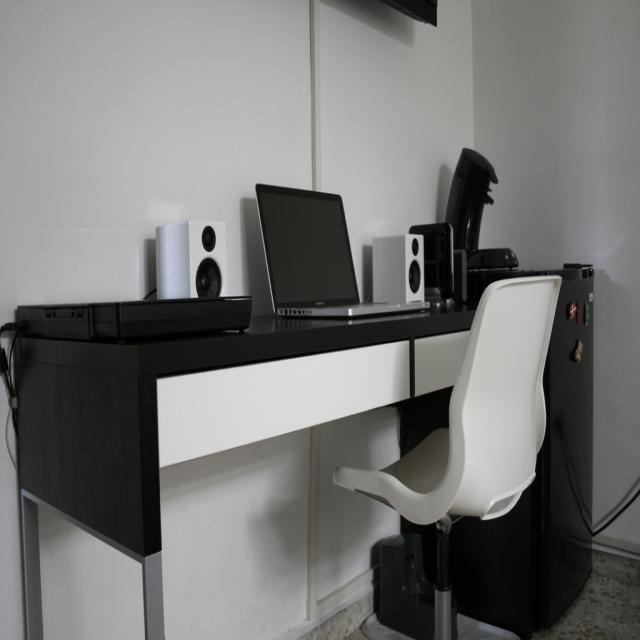chair: (332, 273, 562, 636)
desk: (14, 312, 474, 640)
laptop: (254, 182, 425, 318)
